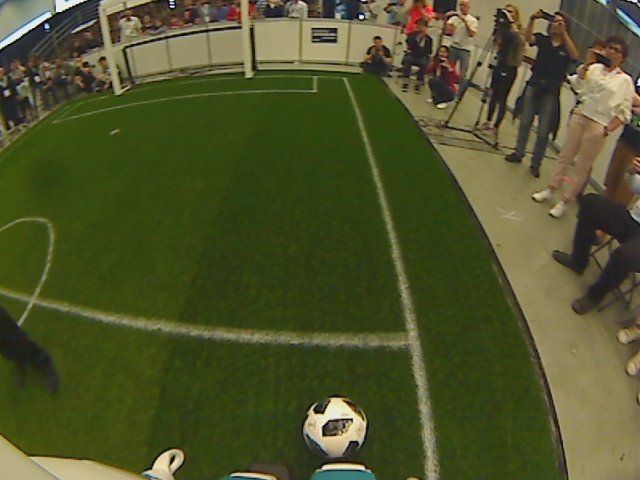ball: (301, 394, 369, 461)
